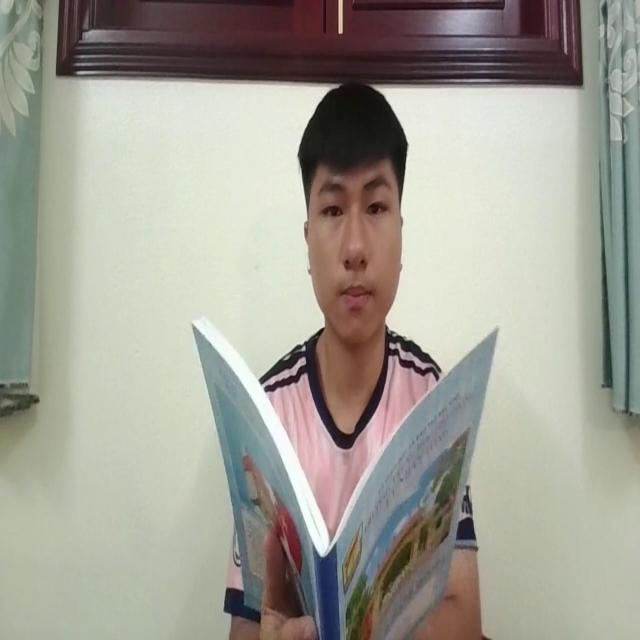book: (191, 306, 500, 640)
student: (253, 81, 449, 435)
